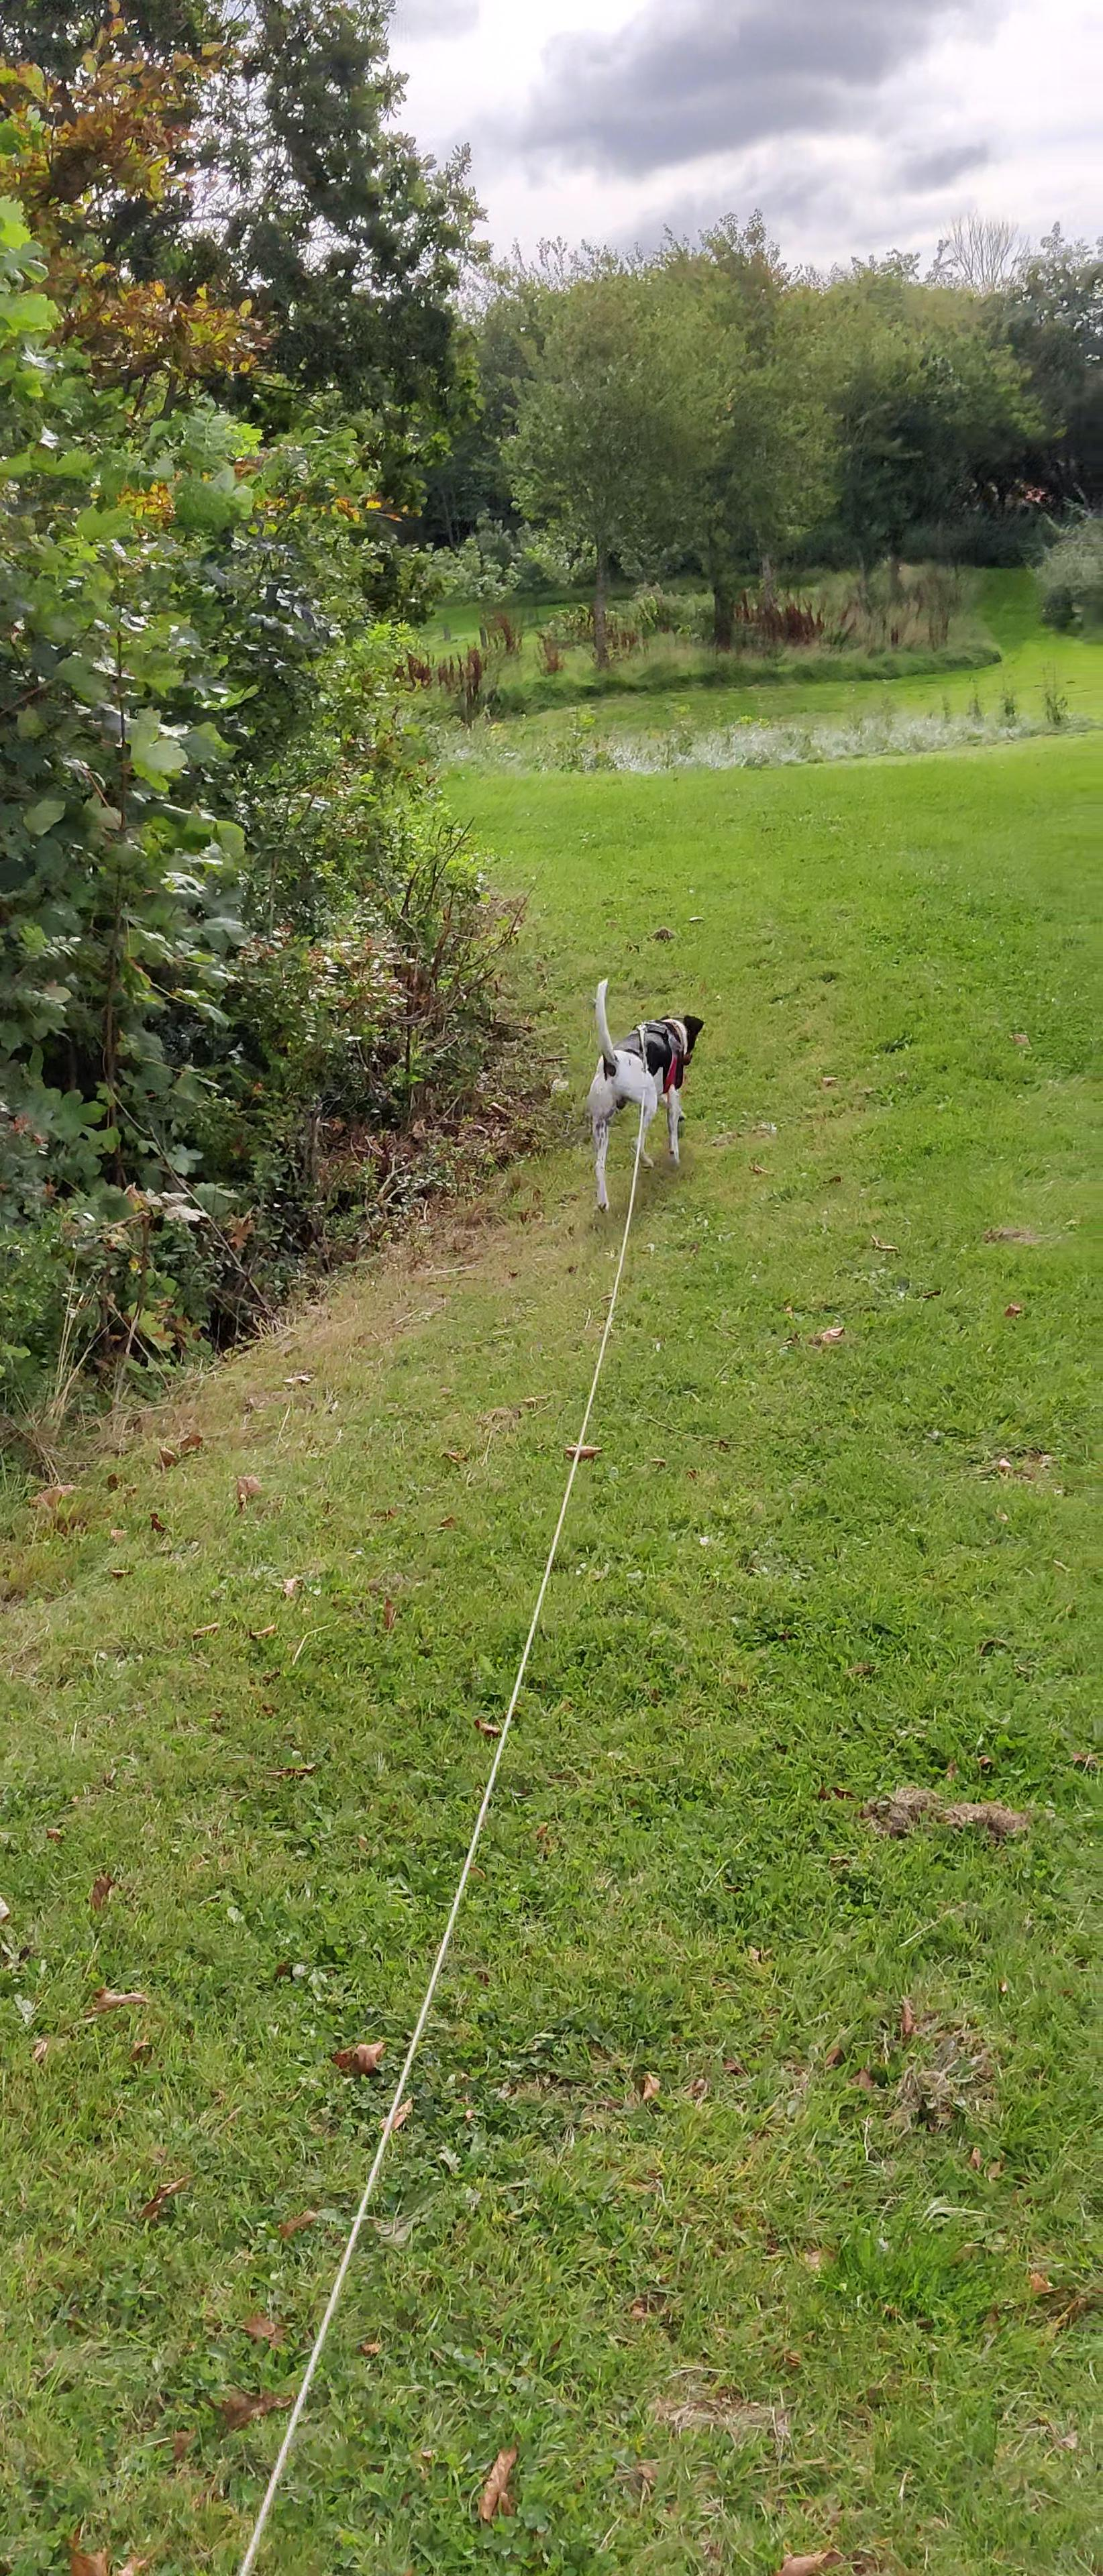Dog: (584, 976, 708, 1217)
